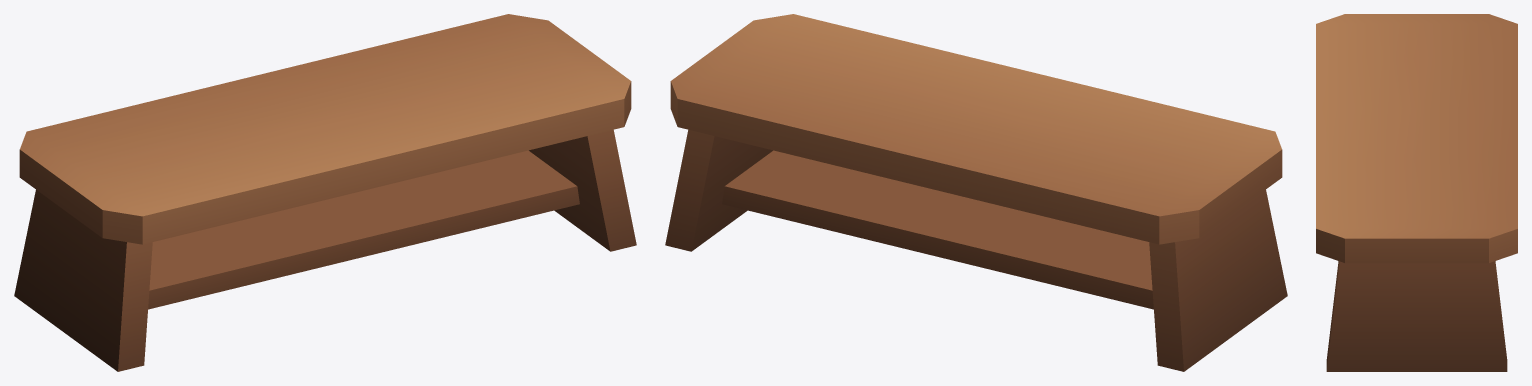
The model's file is SK_Stool_B.FBX.
3 views of the same model, side by side, from view 1: azimuth 30°, elevation 25°; view 2: azimuth 150°, elevation 25°; view 3: azimuth 270°, elevation 25° (orthographic). The views are drawn at different scales.
Parts seen in each view (by area): view 1: SK_Stool_B; view 2: SK_Stool_B; view 3: SK_Stool_B.
Boxes of the visible parts, x1,y1,x2,y2 form: SK_Stool_B: (14,14,636,371); SK_Stool_B: (665,14,1287,371); SK_Stool_B: (1316,14,1517,371).
Bounding box in the file's own units: 89.01 × 25.02 × 33.82.
